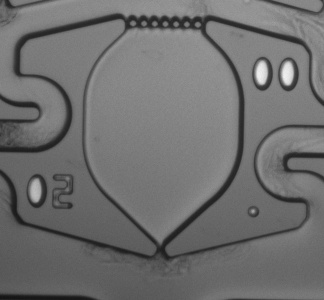AptNum: (245, 51, 307, 96)
Marker: (239, 197, 269, 224)
StNum: (19, 167, 81, 217)
